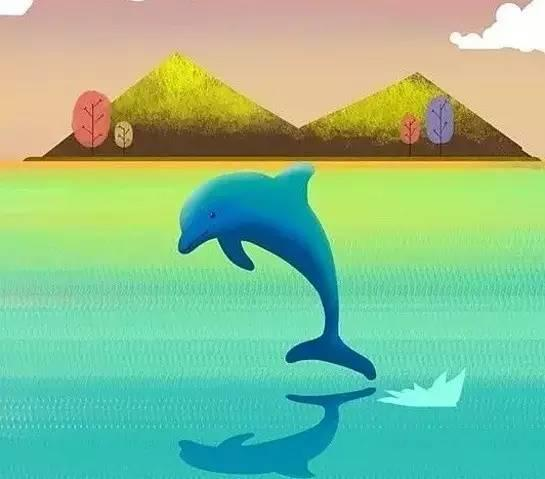fish: (168, 160, 381, 378)
